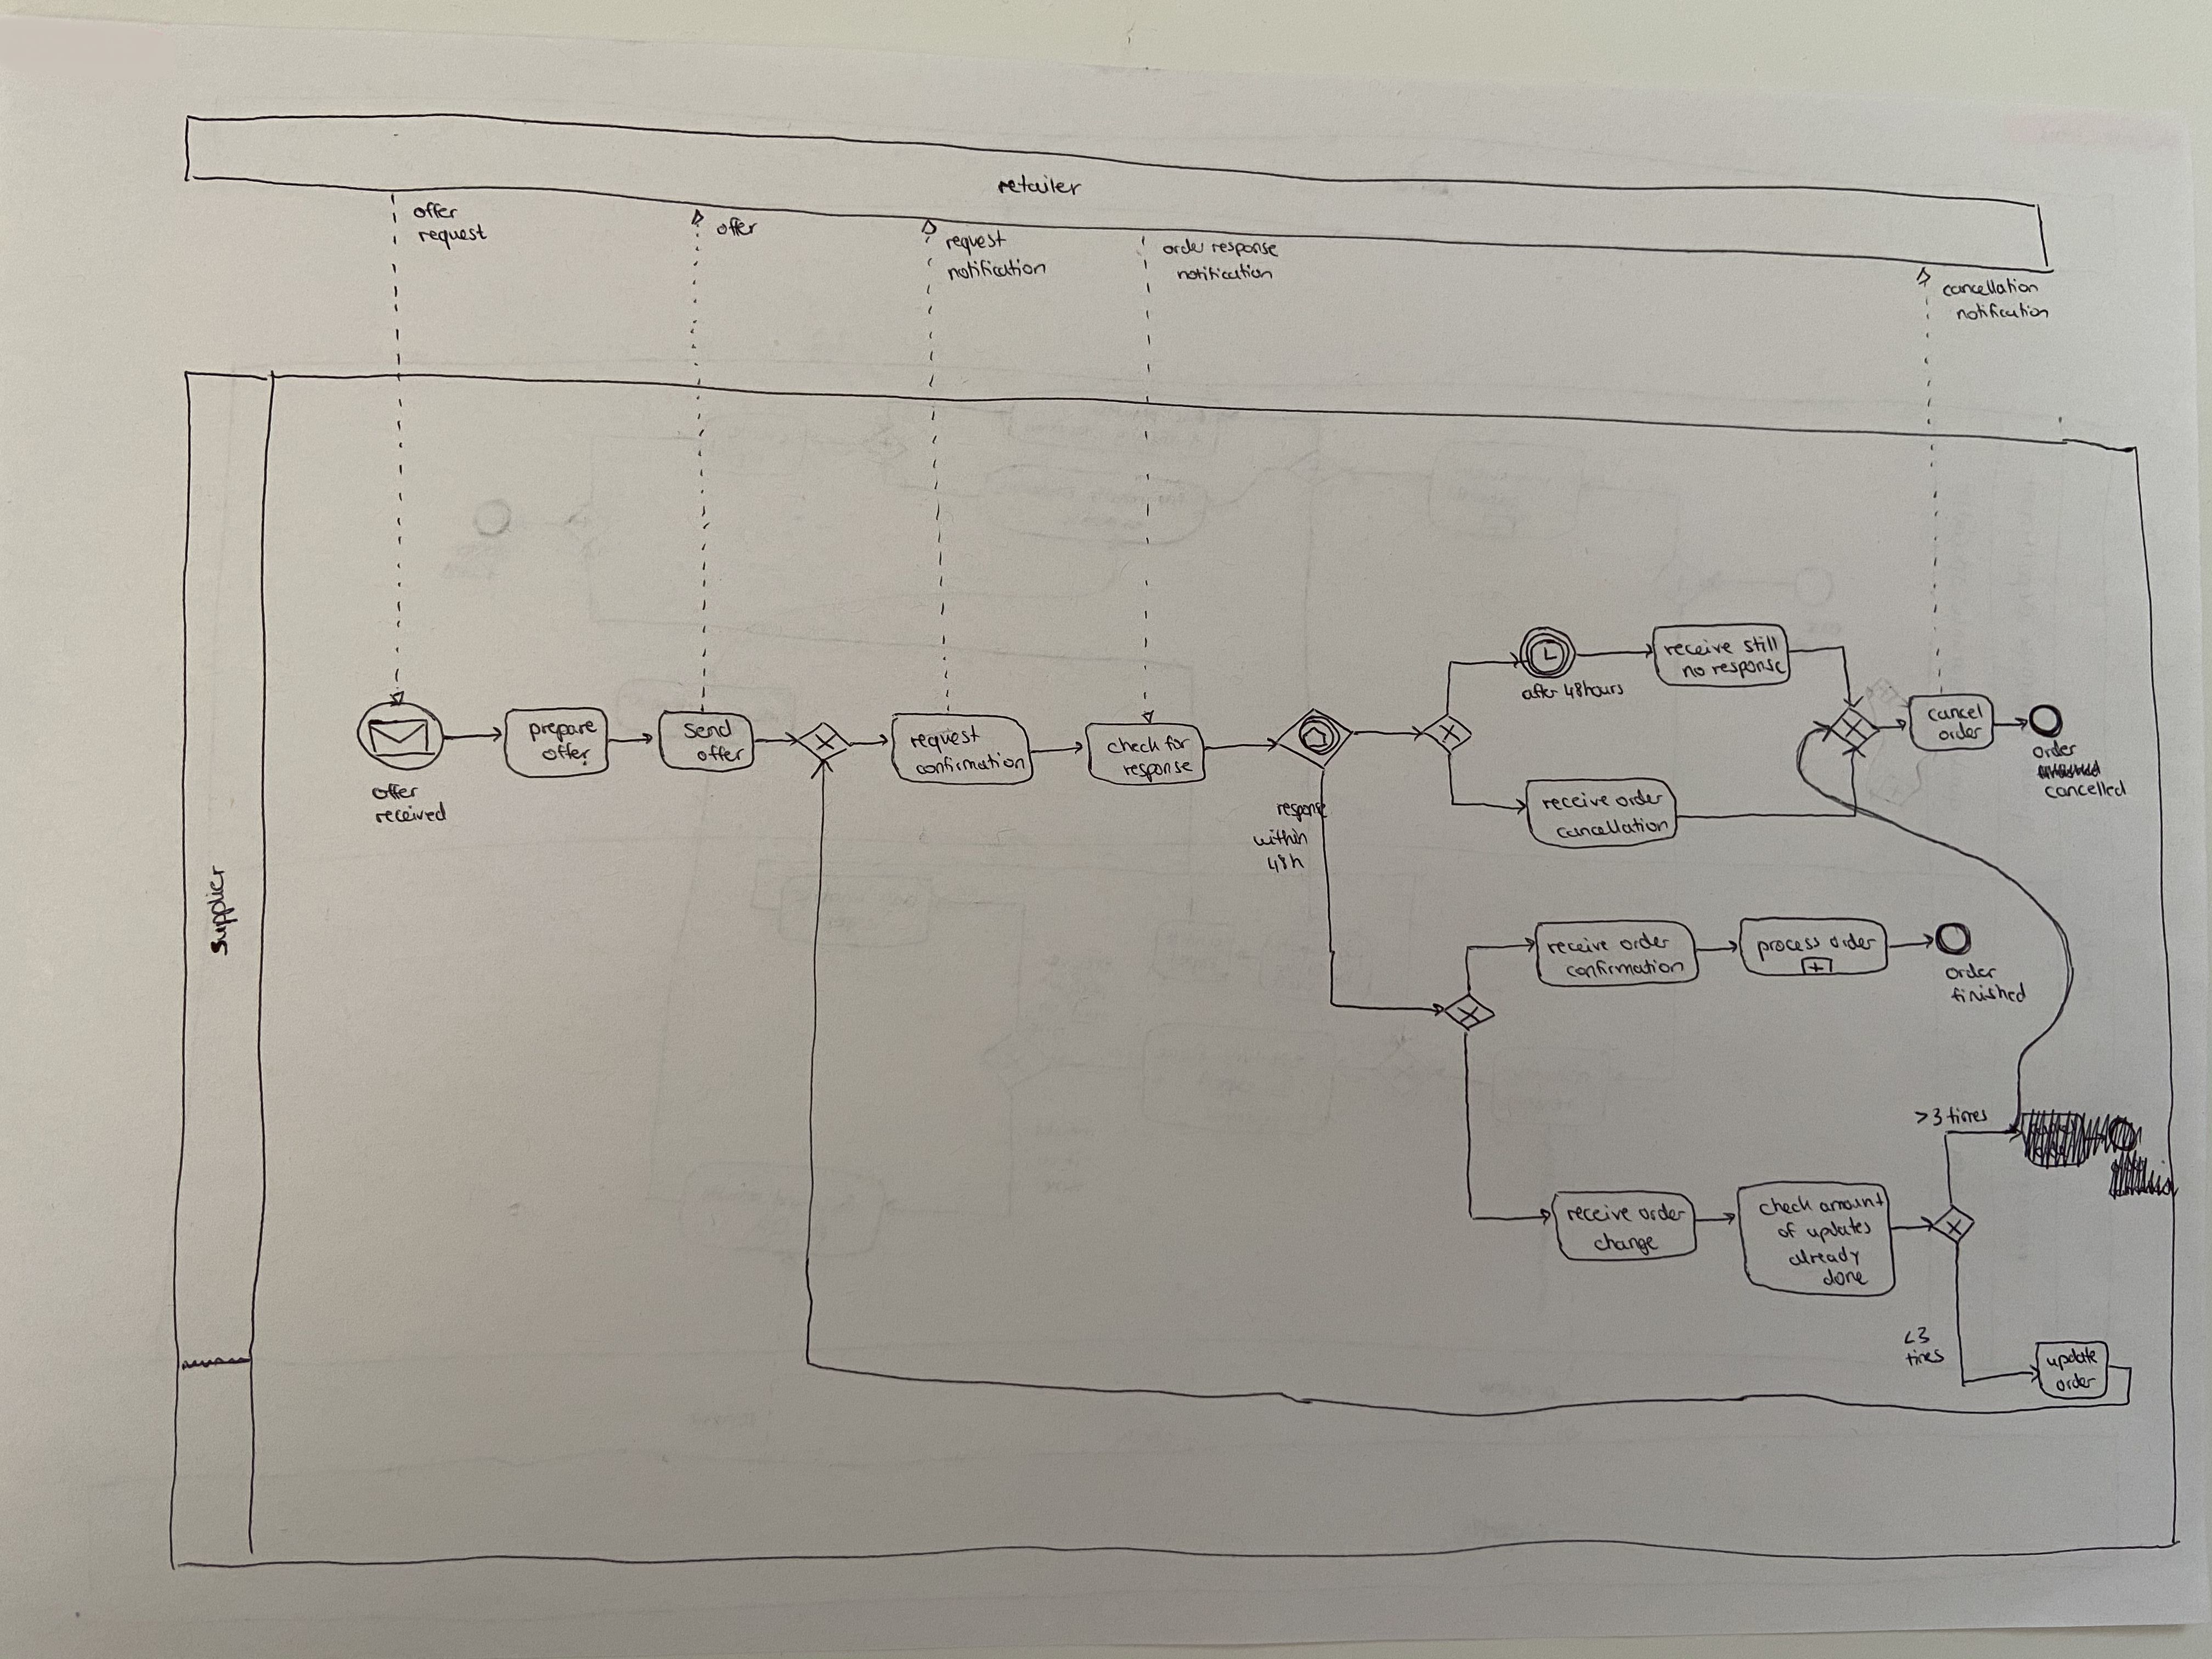48: (1266, 852, 1289, 877), (1566, 681, 1580, 701)
<3: (1900, 1323, 1935, 1349)
>3: (1909, 1101, 1940, 1127)
Order: (1827, 934, 1879, 955), (1937, 721, 1982, 744)
after: (1519, 683, 1557, 701)
already: (1797, 1246, 1858, 1269)
amount: (1818, 1190, 1885, 1215)
cancel: (1926, 704, 1984, 721)
cancellation: (1557, 817, 1669, 840), (1939, 277, 2036, 300)
cancelled: (2033, 777, 2128, 803)
change: (1592, 1232, 1660, 1255)
check: (1759, 1195, 1810, 1216), (1108, 737, 1160, 755)
confirmation: (1562, 957, 1683, 981), (913, 753, 1024, 777)
done: (1822, 1265, 1867, 1290)
finished: (1952, 983, 2029, 1007)
for: (1153, 734, 1197, 755)
h: (1292, 852, 1303, 873)
hours: (1580, 680, 1627, 702)
no: (1677, 657, 1707, 680)
notification: (1177, 263, 1277, 286), (951, 258, 1042, 282), (1956, 301, 2050, 324)
of: (1770, 1220, 1797, 1243)
offer: (362, 781, 428, 802), (538, 741, 590, 765), (693, 746, 744, 767), (413, 200, 456, 223), (714, 213, 754, 237)
order: (2022, 739, 2087, 762), (1629, 1204, 1691, 1227), (1939, 962, 2005, 983), (1620, 932, 1672, 957), (1615, 788, 1667, 812), (1155, 232, 1205, 256), (2055, 1375, 2094, 1391)
prepare: (528, 716, 594, 739)
process: (1757, 936, 1820, 955)
receive: (1547, 934, 1615, 960), (1566, 1202, 1632, 1227), (1540, 793, 1609, 812), (1665, 638, 1730, 657)
received: (373, 805, 446, 824)
request: (415, 223, 489, 249), (907, 728, 974, 749), (942, 234, 1008, 253)
response: (1714, 655, 1785, 680), (1118, 758, 1195, 779), (1211, 240, 1277, 260), (1278, 800, 1325, 821)
retailer: (993, 176, 1083, 199)
send: (686, 720, 732, 741)
still: (1735, 636, 1784, 657)
supplier: (197, 866, 244, 955)
times: (1939, 1105, 1994, 1127), (1905, 1354, 1942, 1366)
update: (2045, 1345, 2097, 1370)
updates: (1808, 1218, 1871, 1239)
within: (1254, 828, 1305, 849)
